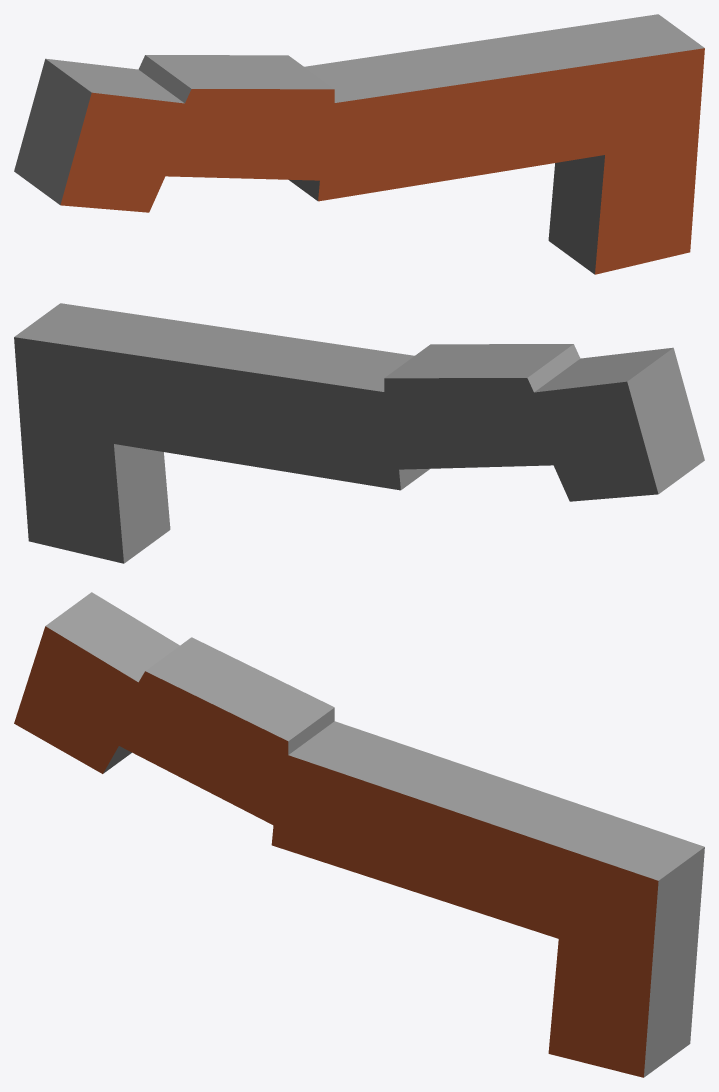
The model's file is construction_4742_assumed_A_Casa_h6m.obj.
The picture shows the model from 3 angles, top to bottom: view 1: azimuth 30°, elevation 25°; view 2: azimuth 150°, elevation 25°; view 3: azimuth 330°, elevation 25°; orthographic projection.
Parts seen in each view (by area): view 1: construction_4742_assumed_A_Casa; view 2: construction_4742_assumed_A_Casa; view 3: construction_4742_assumed_A_Casa.
Boxes of the visible parts, x1,y1,x2,y2 form: construction_4742_assumed_A_Casa: [14, 14, 704, 274]; construction_4742_assumed_A_Casa: [14, 303, 704, 563]; construction_4742_assumed_A_Casa: [14, 592, 704, 1077].
Bounding box in the file's own units: 48.08 × 21.79 × 6.
